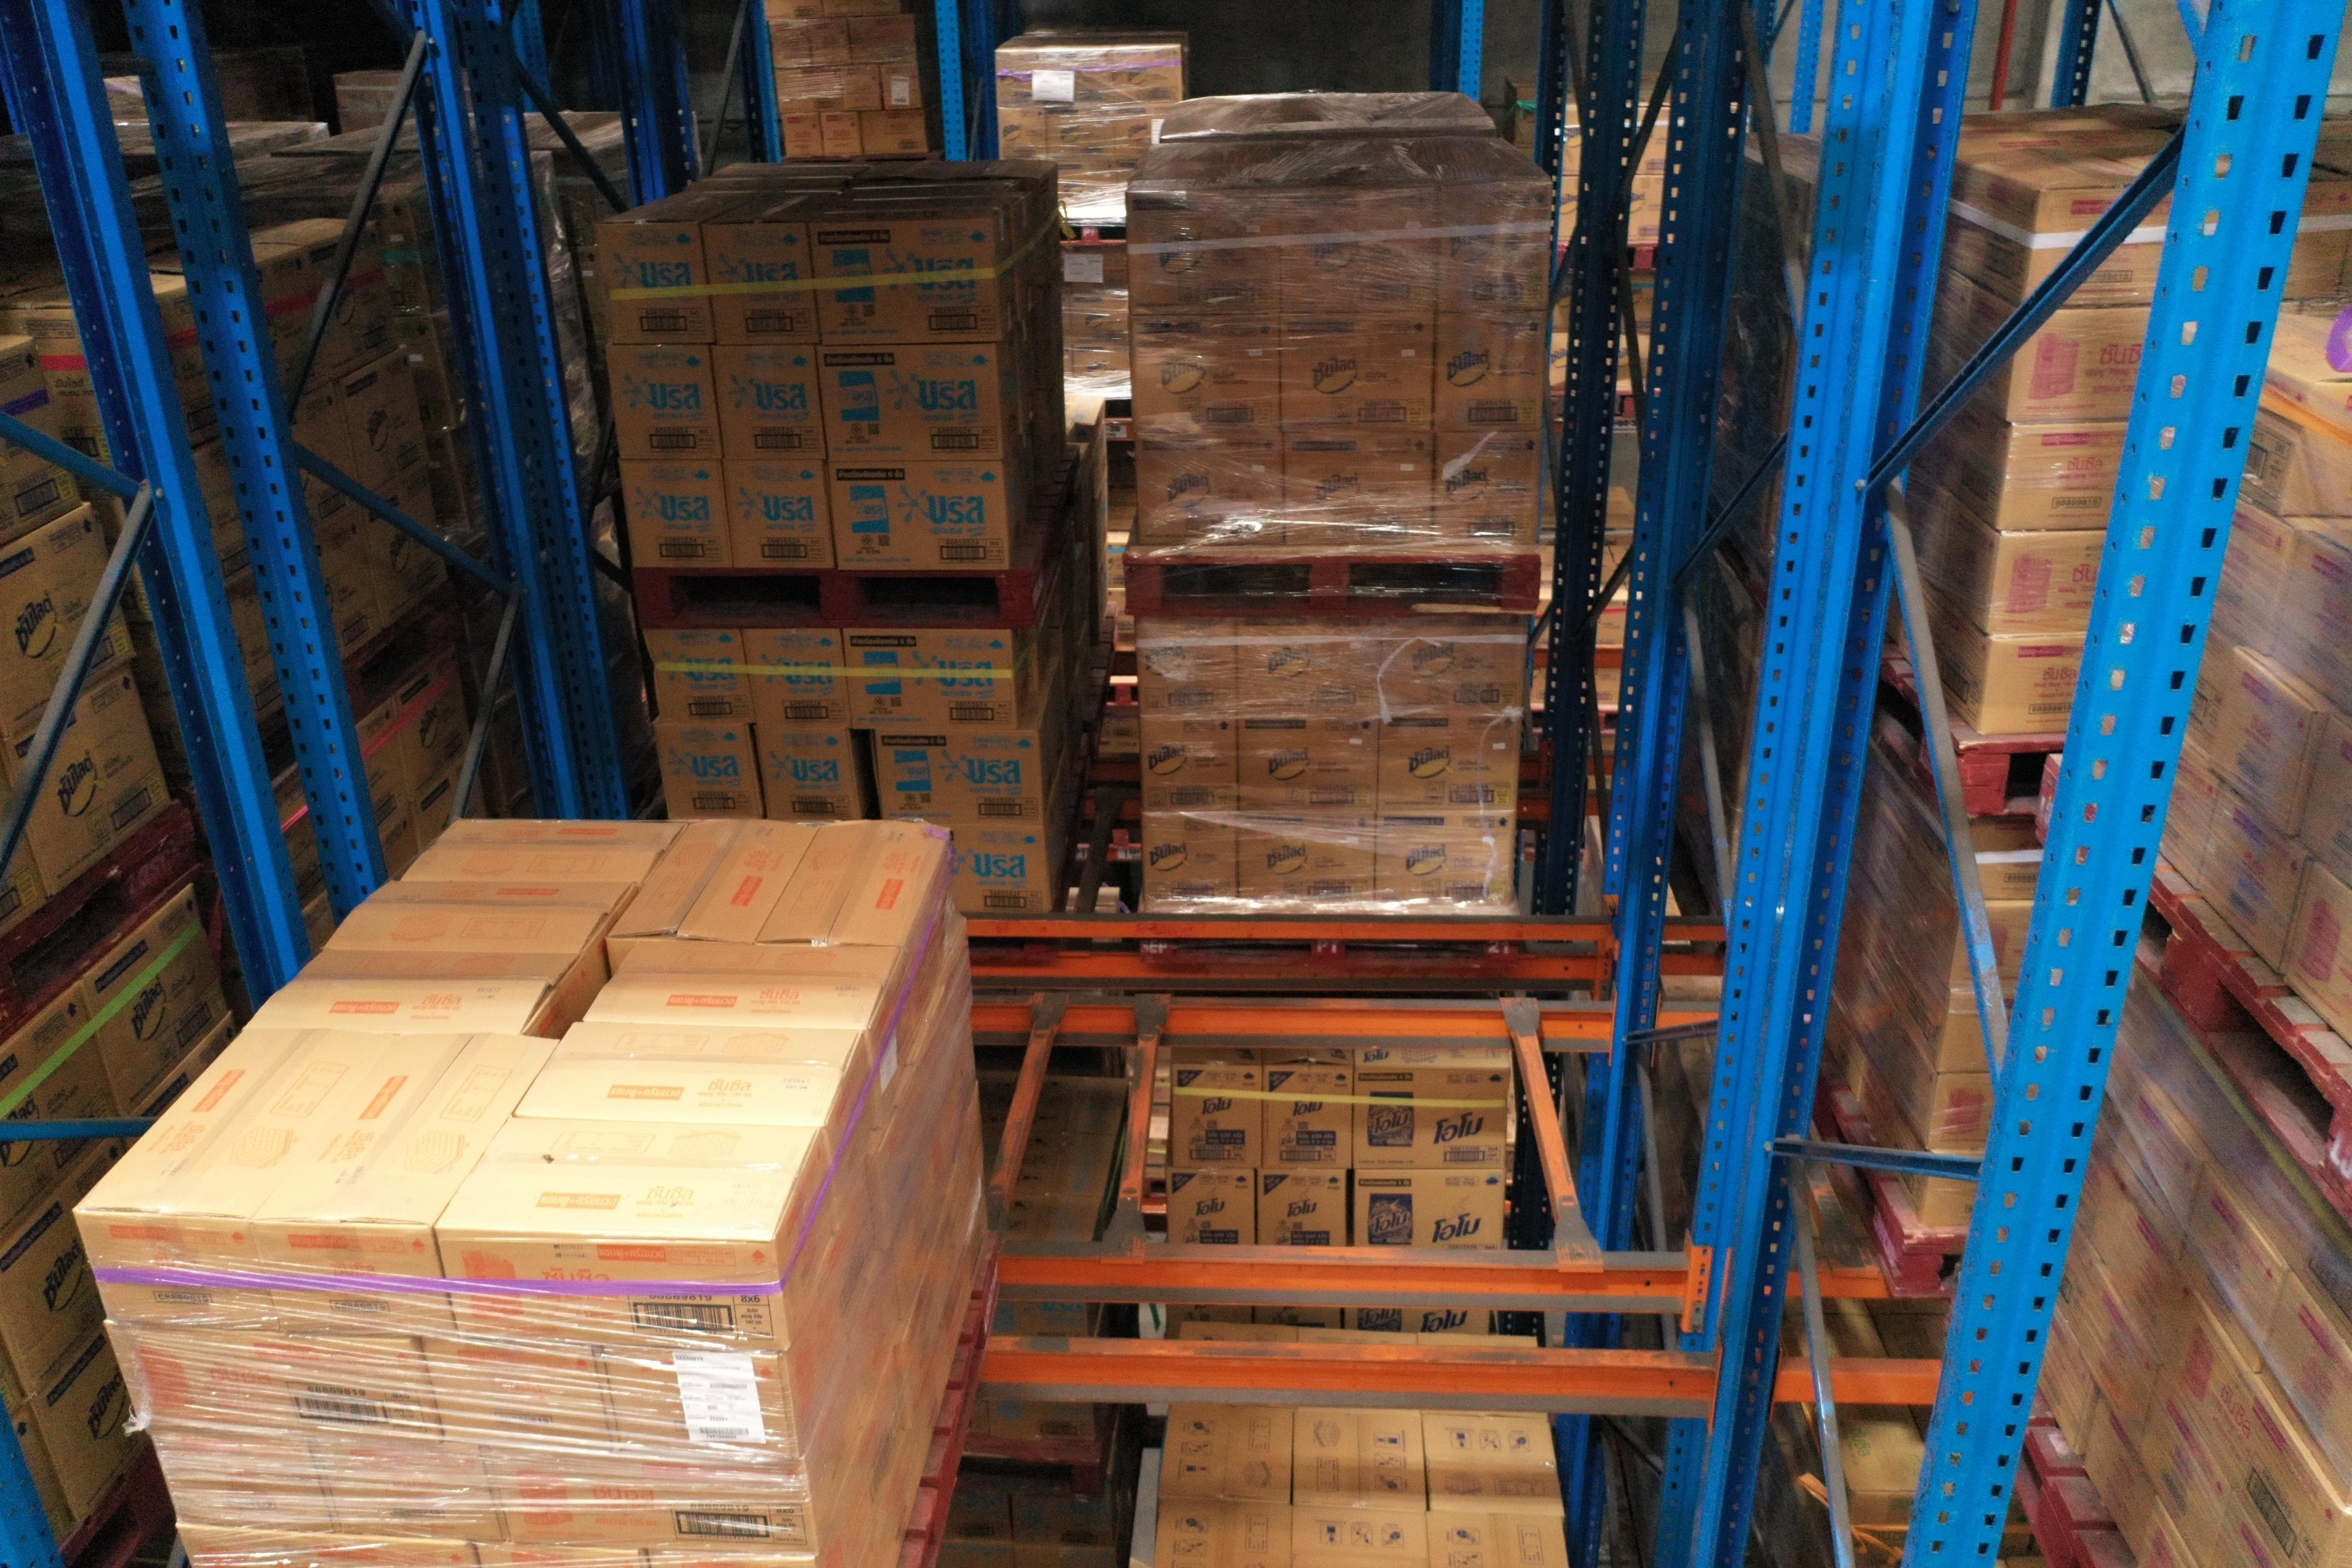-: (107, 1318, 444, 1470), (441, 1230, 791, 1351), (597, 1346, 801, 1486), (422, 1339, 619, 1477), (500, 1473, 819, 1557), (68, 1213, 278, 1335), (252, 1220, 464, 1339), (159, 1456, 339, 1547), (320, 1465, 507, 1545)
2: (808, 219, 1001, 346), (815, 341, 1006, 469), (1277, 185, 1435, 324), (1127, 189, 1281, 322), (849, 623, 1029, 735), (822, 467, 1008, 576), (1281, 320, 1435, 437), (1132, 320, 1283, 436), (1433, 182, 1557, 320), (870, 737, 1046, 831), (1136, 434, 1284, 546), (1288, 432, 1431, 548), (1227, 723, 1381, 826), (1232, 625, 1382, 726), (1375, 721, 1522, 824), (598, 219, 714, 350), (1374, 814, 1514, 919), (1379, 635, 1526, 735), (1232, 814, 1374, 917), (605, 343, 723, 467), (1431, 313, 1550, 434), (698, 226, 815, 346), (612, 460, 738, 569), (710, 346, 819, 467), (1433, 429, 1545, 542), (719, 467, 836, 576), (744, 625, 854, 735), (642, 632, 758, 726), (1137, 621, 1241, 726), (752, 726, 857, 828), (658, 724, 765, 824), (1137, 719, 1235, 826), (1139, 812, 1237, 917)
